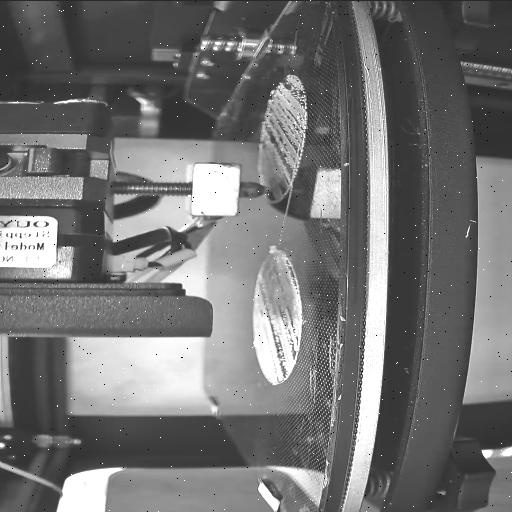under_extrusion: (259, 76, 308, 182), (258, 256, 298, 382)
